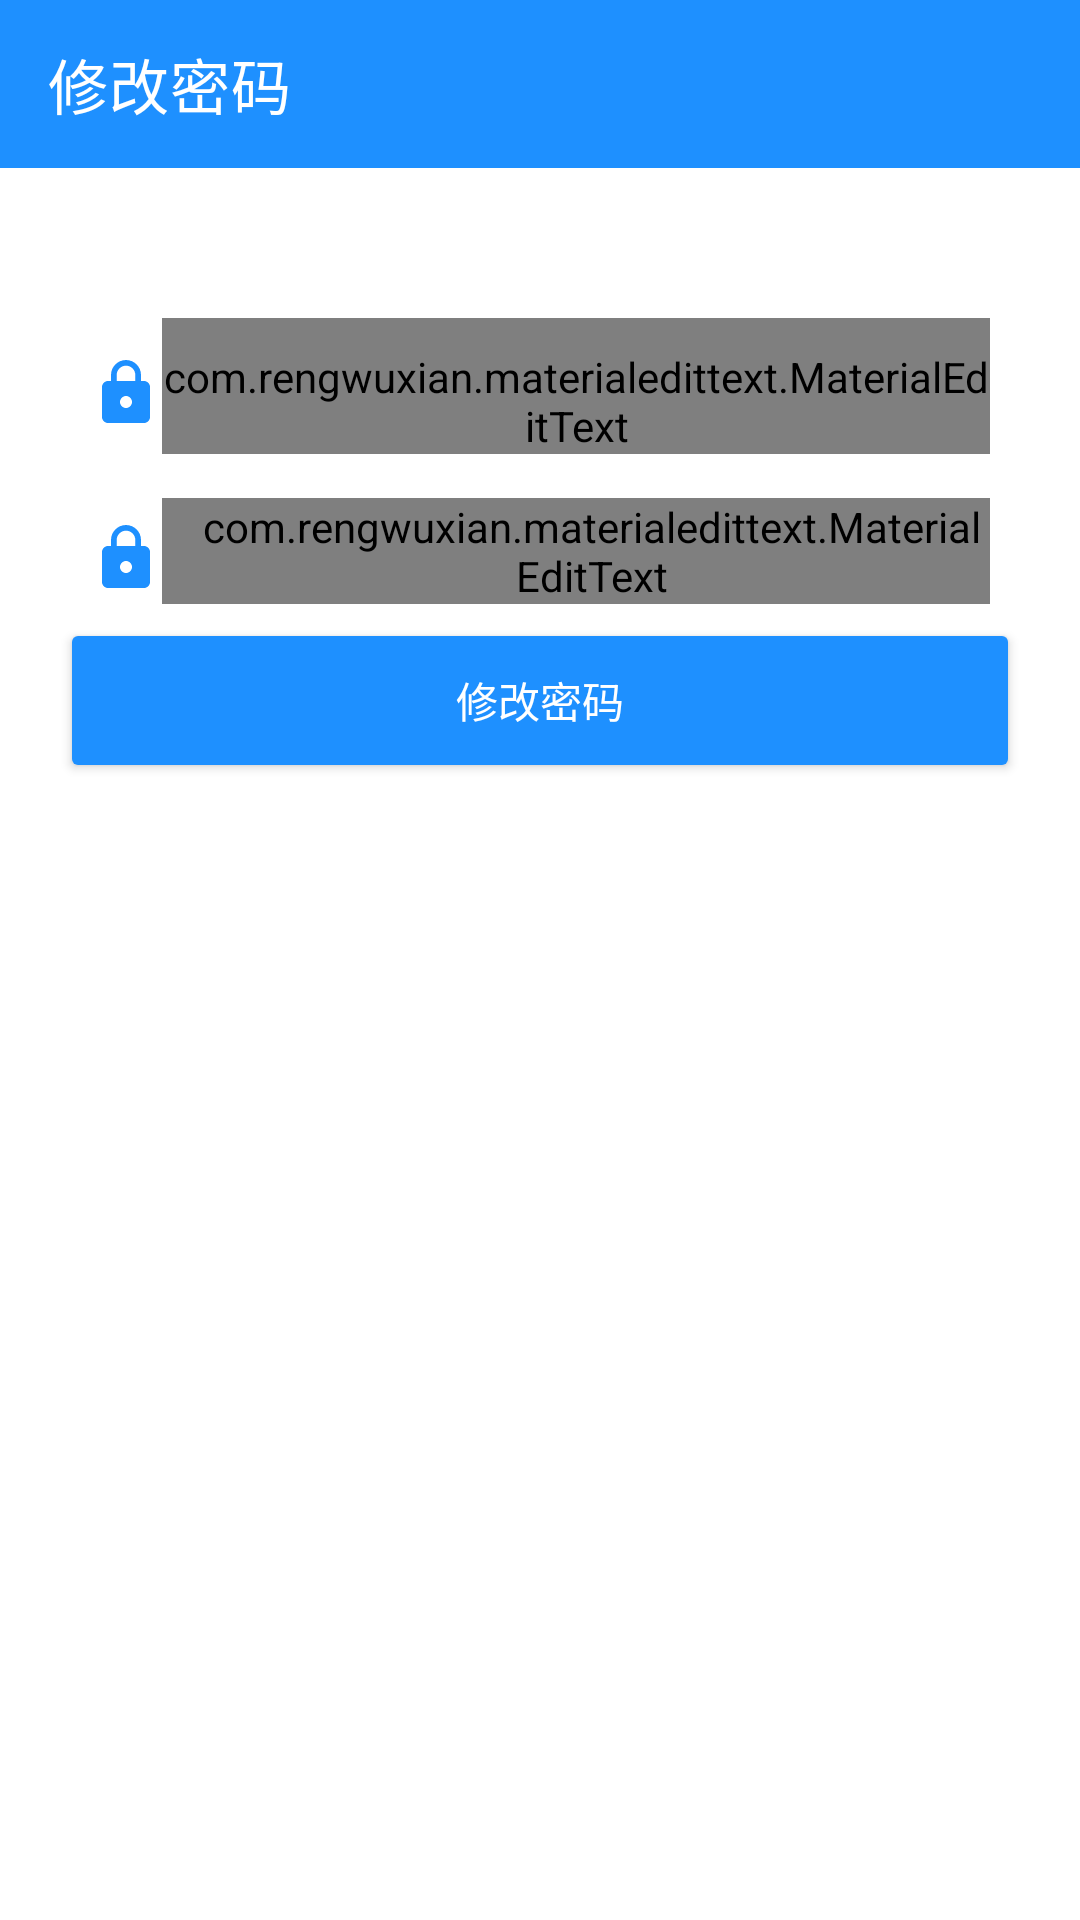

Icons on this 1080 x 1920 Android screen, each with the point to tap as (x=x, y=y):
lock: (x=126, y=391), (x=126, y=556)
